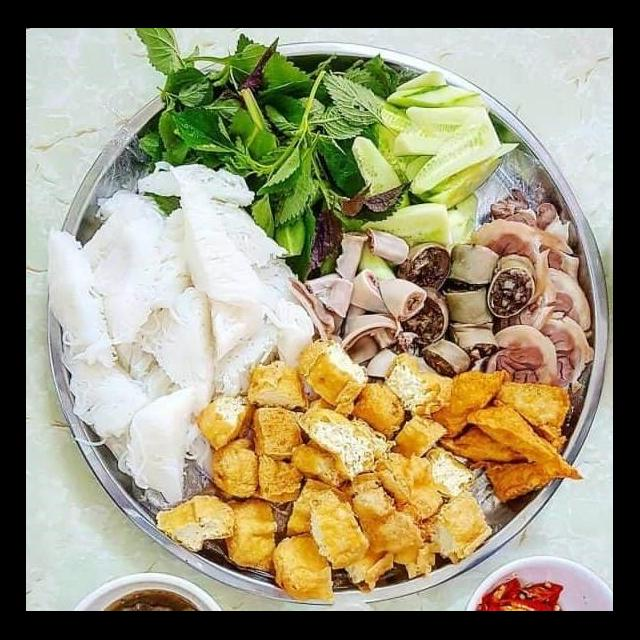bun: (44, 160, 323, 514)
bun dau: (47, 72, 613, 587)
cha com: (418, 362, 592, 512)
dau hu: (364, 518, 364, 518)
doi sun: (436, 276, 504, 358), (484, 248, 542, 324), (393, 238, 458, 300), (396, 284, 454, 352), (442, 240, 510, 296), (421, 328, 476, 374)
thit heo: (142, 326, 498, 606), (468, 190, 606, 400)
